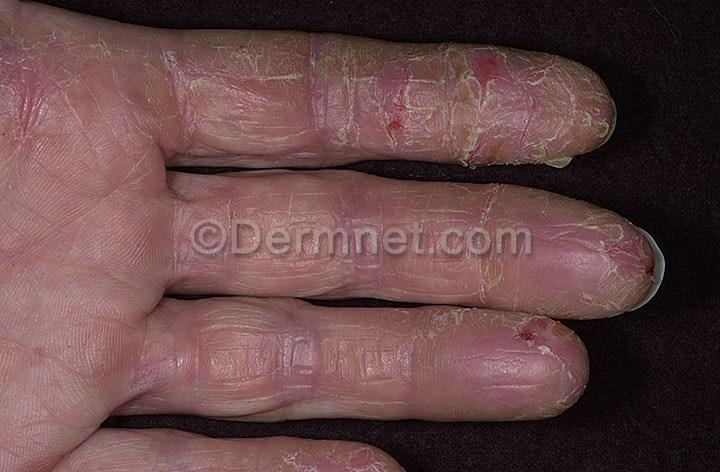Eczema: (144, 34, 349, 157), (266, 309, 464, 426), (351, 42, 518, 177), (0, 11, 109, 191), (112, 290, 267, 410), (532, 214, 659, 308), (471, 320, 584, 414), (142, 168, 341, 221), (338, 178, 514, 230), (520, 68, 614, 163), (403, 257, 527, 320), (305, 250, 393, 310), (254, 442, 394, 472), (126, 431, 206, 472)
